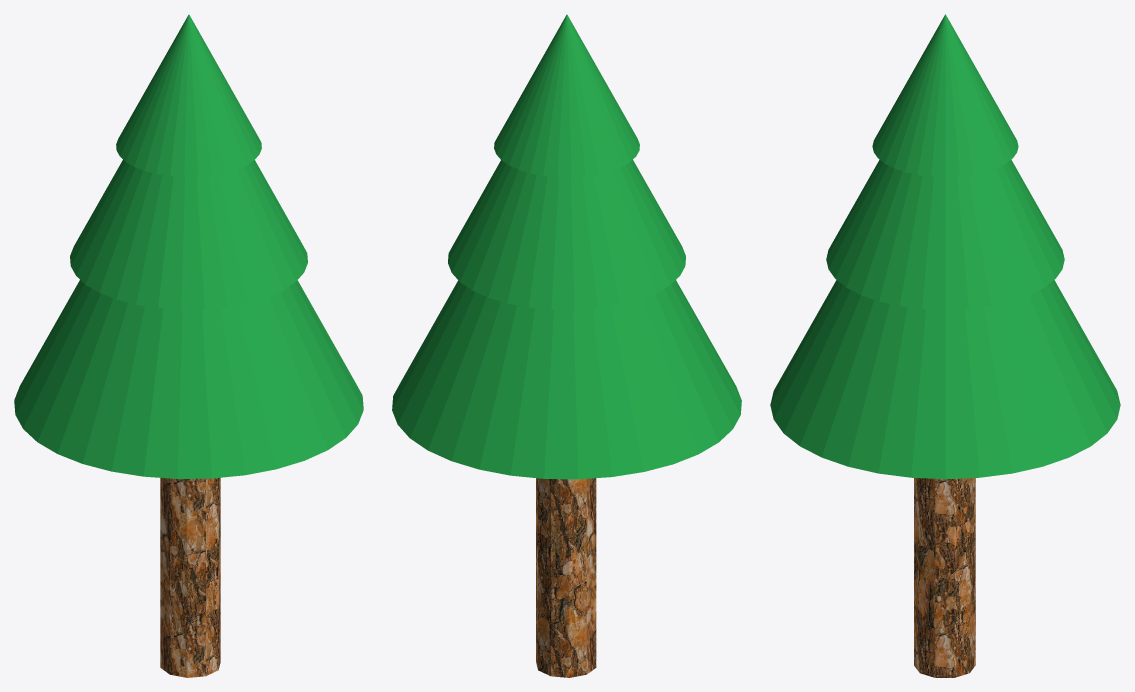
Rendered from low_poly_tree.glb.
3 renders of one model, left to right at view 1: azimuth 30°, elevation 25°; view 2: azimuth 150°, elevation 25°; view 3: azimuth 270°, elevation 25°, orthographic.
Visible parts, largest first — view 1: Cylinder; view 2: Cylinder; view 3: Cylinder.
Part boxes in pixels (box(x1,y1,x2,y2)): Cylinder: box(14, 14, 363, 677); Cylinder: box(392, 14, 741, 677); Cylinder: box(770, 14, 1120, 677).
Bounding box in the file's own units: 3.51 × 7.2 × 3.51.
Materials: 1 (1 with a texture image).
